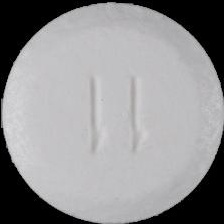63629-4838: (0, 0, 224, 224)
